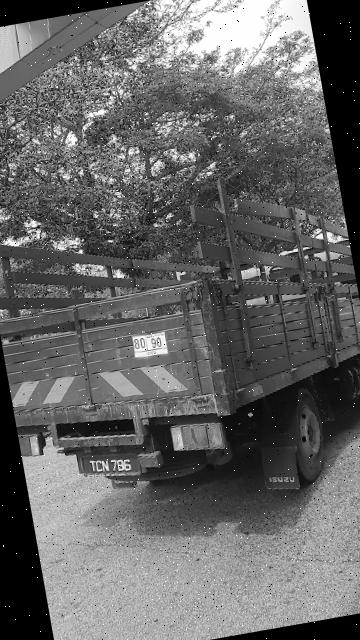License_Plate: (76, 446, 145, 487)
lorry: (1, 172, 360, 543)
